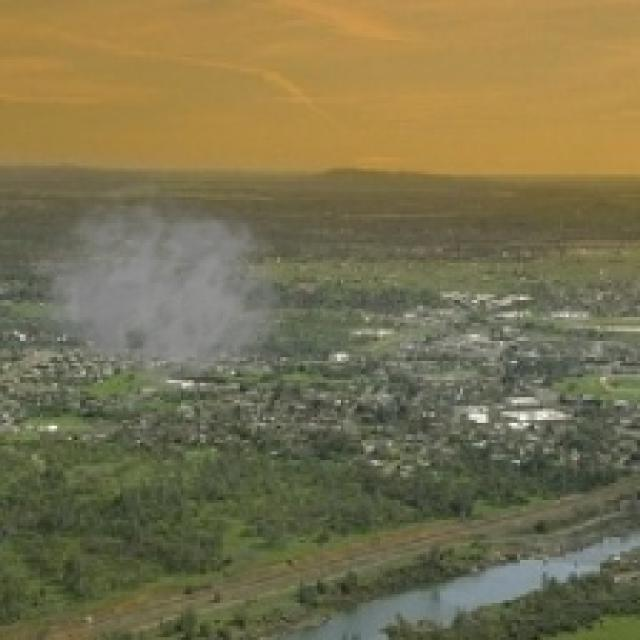Smoke: (20, 177, 292, 392)
